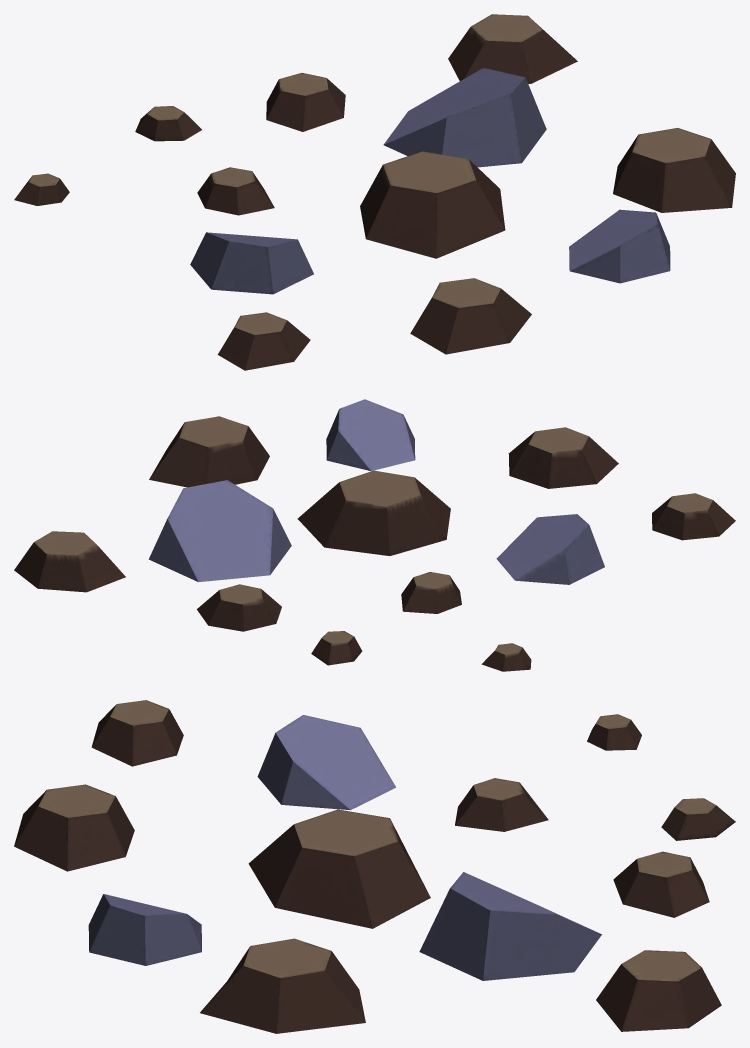
Rendered from tile_wood_4_ruin_lod1.fbx.
The picture shows the model from 3 angles, top to bottom: view 1: azimuth 30°, elevation 25°; view 2: azimuth 150°, elevation 25°; view 3: azimuth 270°, elevation 25°; orthographic projection. The views are drawn at different scales.
Visible parts, largest first — view 1: wood_4_ruin_lod1; view 2: wood_4_ruin_lod1; view 3: wood_4_ruin_lod1.
Part boxes in pixels (x1,y1,x2,y2): wood_4_ruin_lod1: (14,14,735,370); wood_4_ruin_lod1: (14,399,735,671); wood_4_ruin_lod1: (14,700,735,1033).
Size of the model in its own units: 0.0504 by 0.00494 by 0.049.
